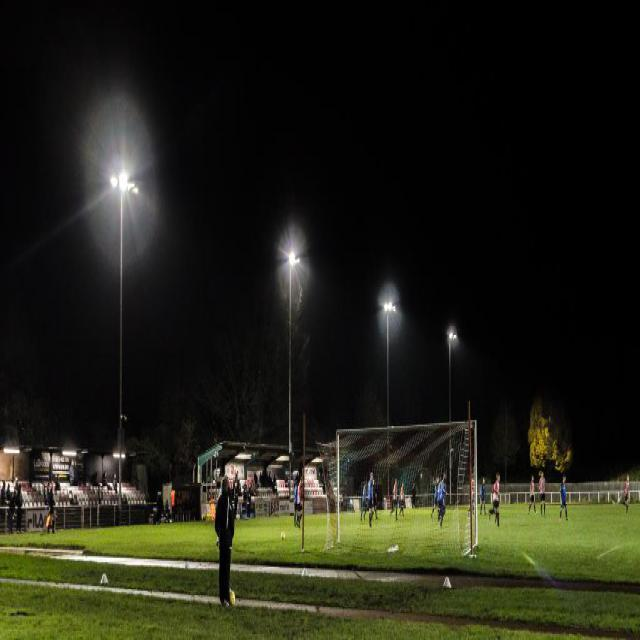ball: (281, 532, 285, 541)
